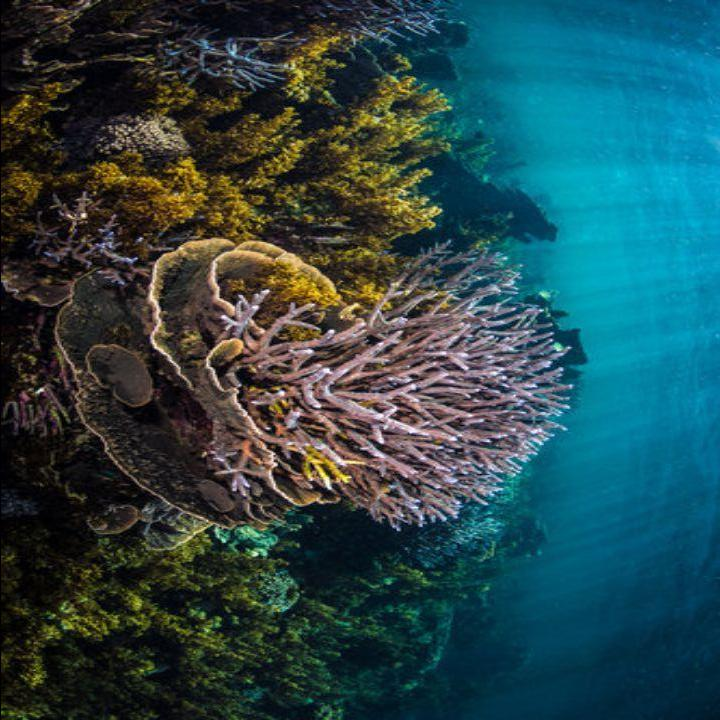Healthy Coral: (53, 232, 599, 554), (4, 8, 452, 201), (14, 576, 470, 706)
